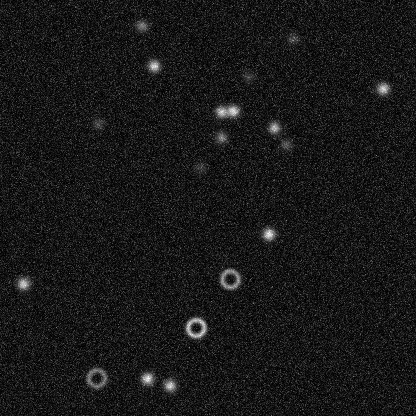Ring: (183, 315, 207, 339), (217, 266, 241, 290), (84, 365, 108, 389)
Spot: (15, 275, 31, 291), (145, 57, 161, 73), (374, 80, 390, 96), (192, 159, 208, 175), (260, 226, 276, 242), (213, 103, 229, 119), (139, 370, 155, 386), (266, 119, 282, 135), (161, 377, 177, 393), (89, 115, 105, 131), (224, 102, 240, 118), (240, 68, 256, 84), (284, 30, 300, 46), (133, 17, 149, 33), (278, 136, 294, 152), (213, 129, 229, 145)
